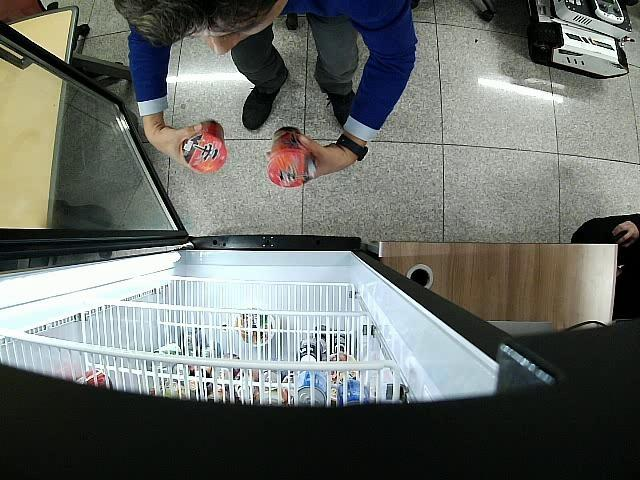02_shinRamen_S: (266, 126, 317, 186), (181, 123, 228, 176)
